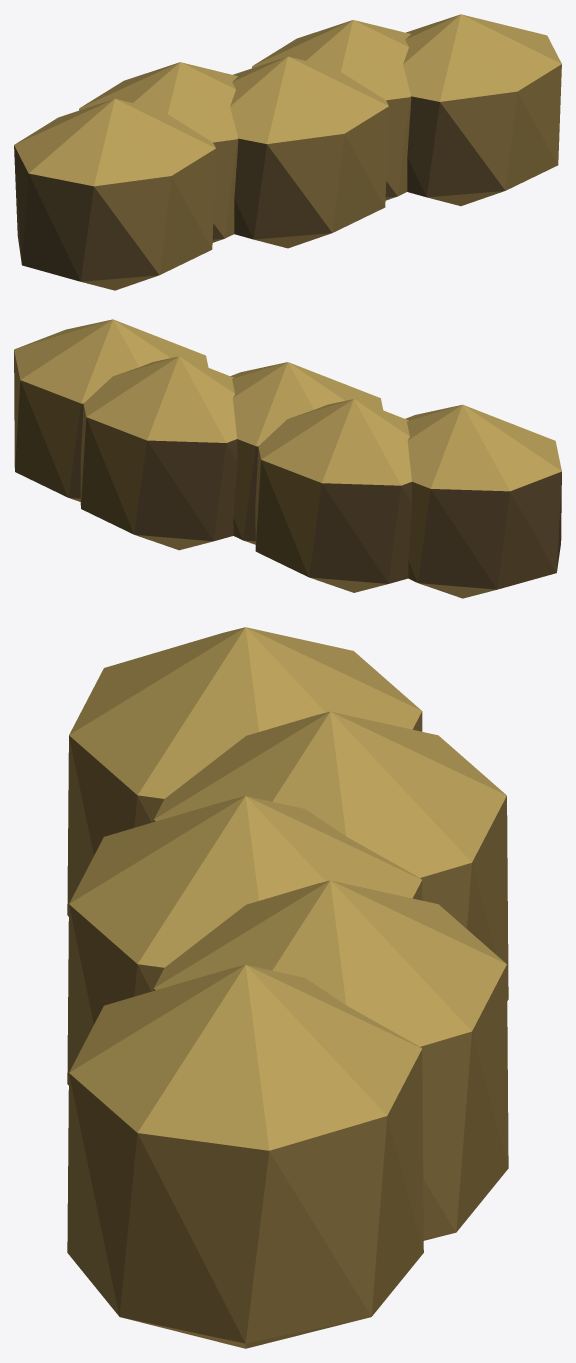
Rendered from TW_VEG_BUSH_LONG_B_LOD0.glb.
3 renders of one model, top to bottom at view 1: azimuth 30°, elevation 25°; view 2: azimuth 150°, elevation 25°; view 3: azimuth 270°, elevation 25°, orthographic. The views are drawn at different scales.
Visible parts, largest first — view 1: TW_VEG_BUSH_LONG_B_LOD0; view 2: TW_VEG_BUSH_LONG_B_LOD0; view 3: TW_VEG_BUSH_LONG_B_LOD0.
Boxes of the visible parts, x1,y1,x2,y2 form: TW_VEG_BUSH_LONG_B_LOD0: (14,14,561,290); TW_VEG_BUSH_LONG_B_LOD0: (14,319,561,598); TW_VEG_BUSH_LONG_B_LOD0: (67,627,508,1348).
Size of the model in its own units: 2.03 by 0.7 by 0.7289.
Materials: 1 (1 with a texture image).
